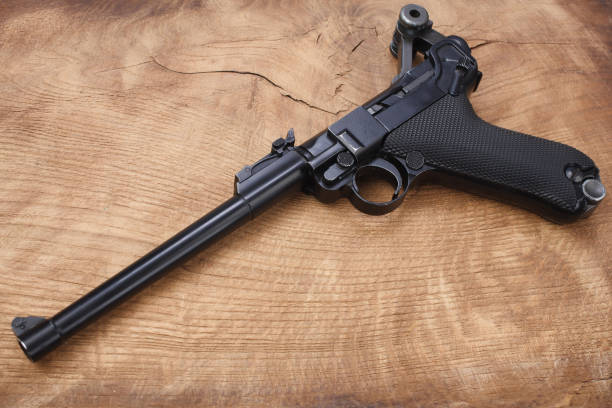gun: (9, 4, 603, 359)
